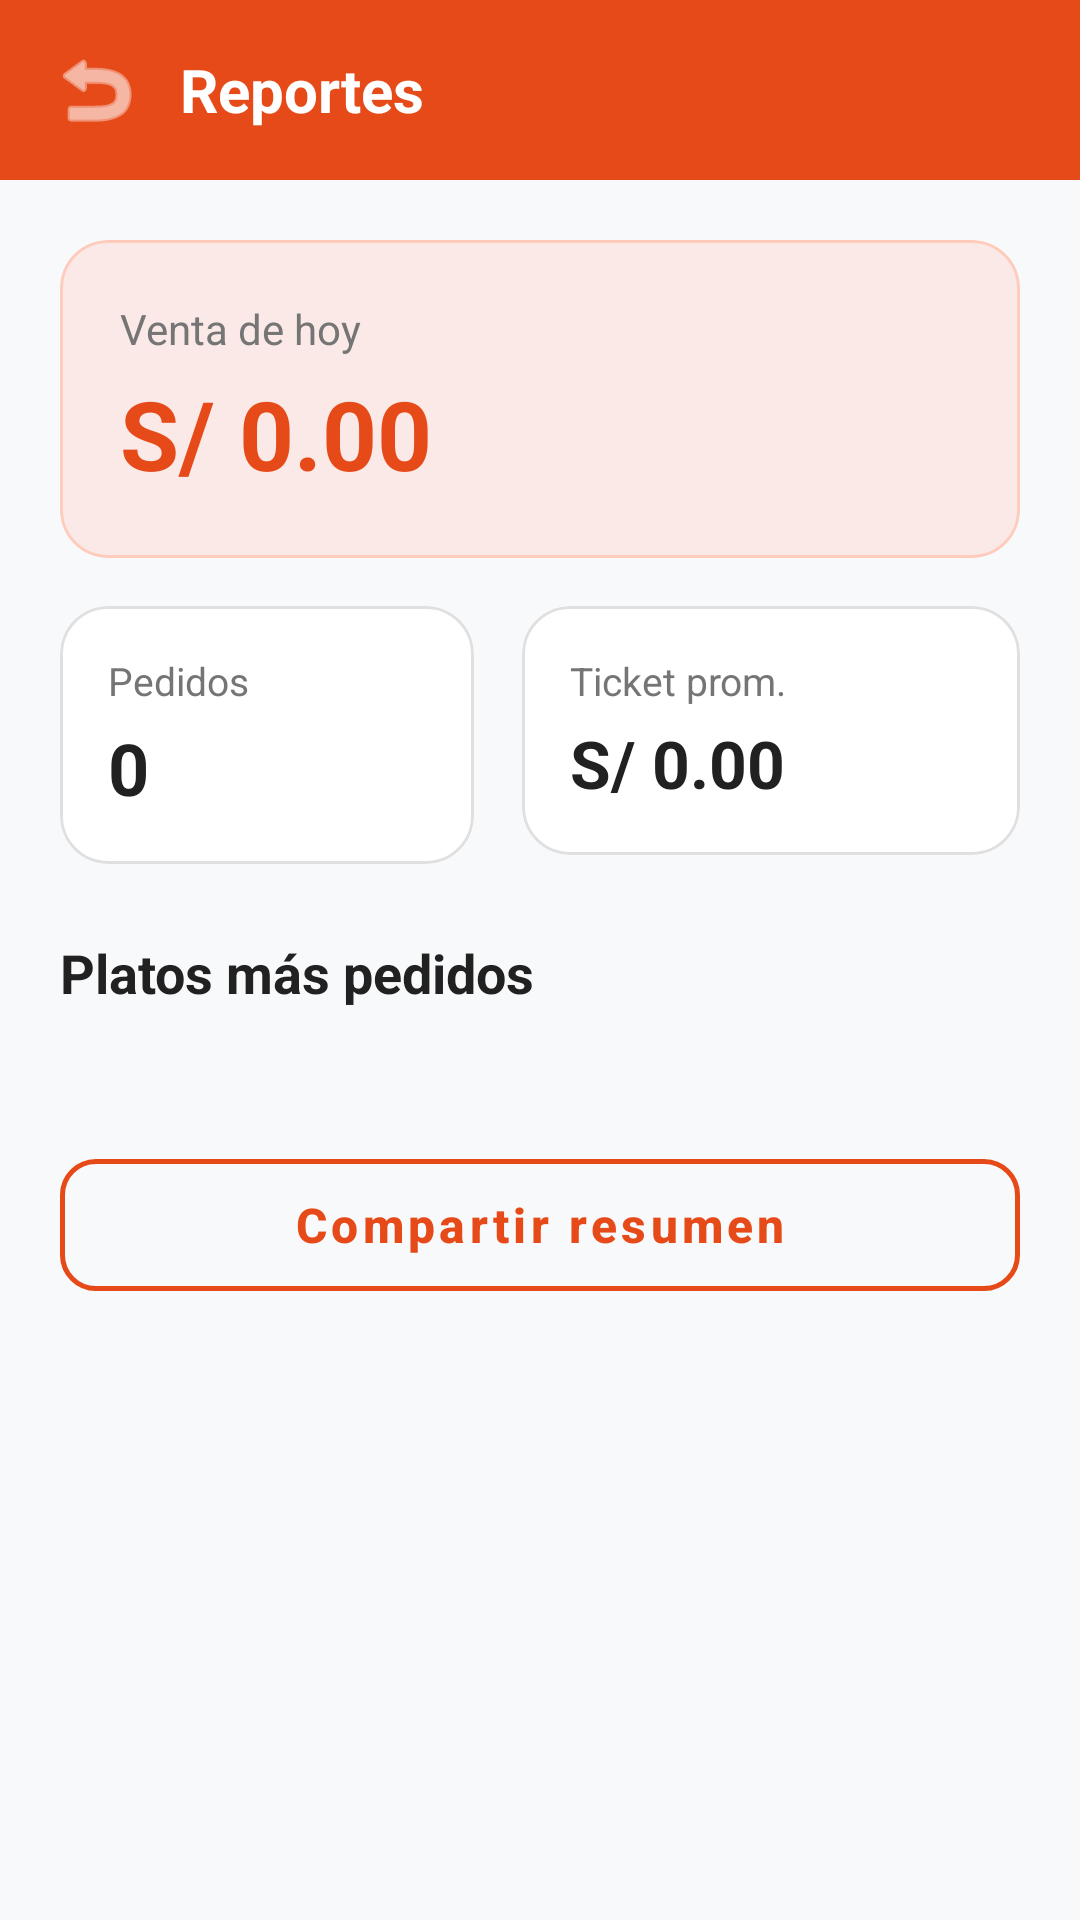

Named icons in this screenshot (1080px x 1920px) and their centers, point (x, y):
revert: point (97, 90)
